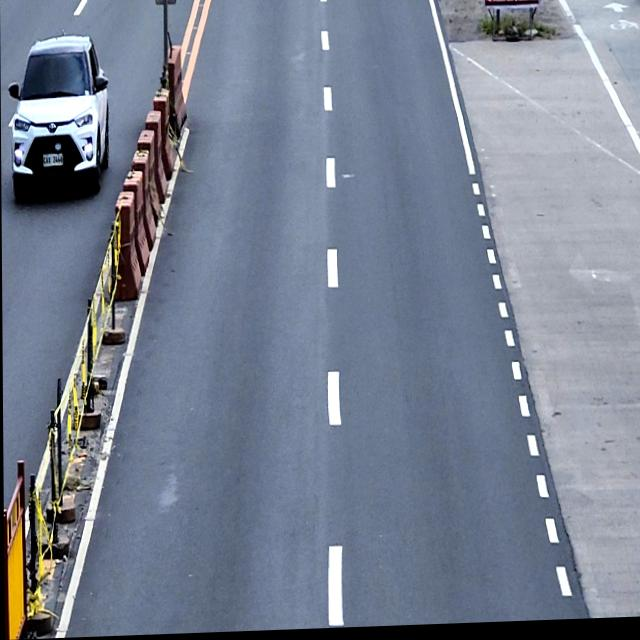Car: (8, 31, 111, 203)
License-Plate: (40, 151, 64, 170)
